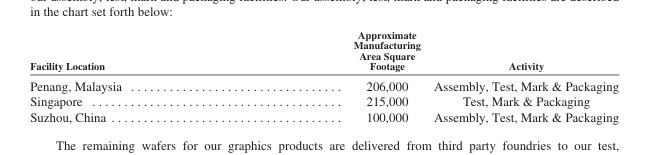table: (29, 28, 618, 123)
table column: (29, 28, 236, 123), (426, 28, 618, 123), (236, 28, 426, 123)
table column header: (29, 28, 618, 74)
table row: (29, 28, 618, 74), (29, 74, 618, 93), (29, 93, 618, 108), (29, 108, 618, 123)
